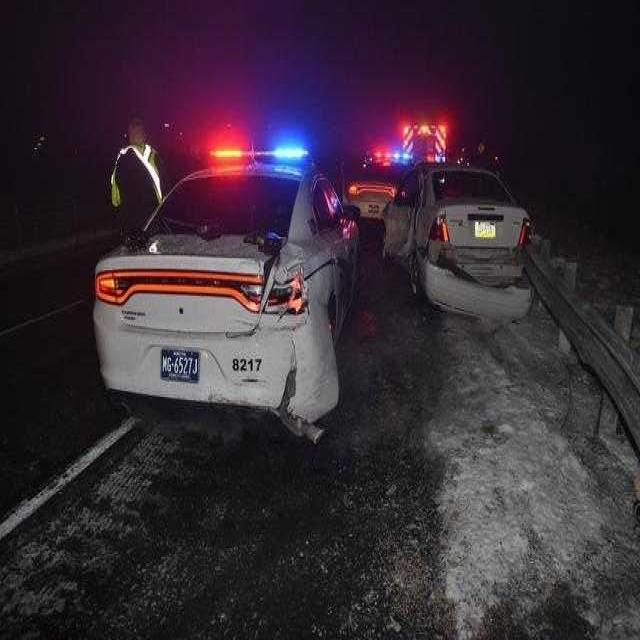firetruck: (56, 100, 360, 465), (368, 143, 421, 243)
